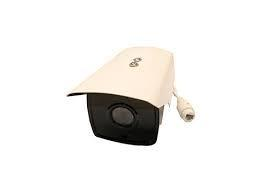tutu: (66, 35, 193, 157)
